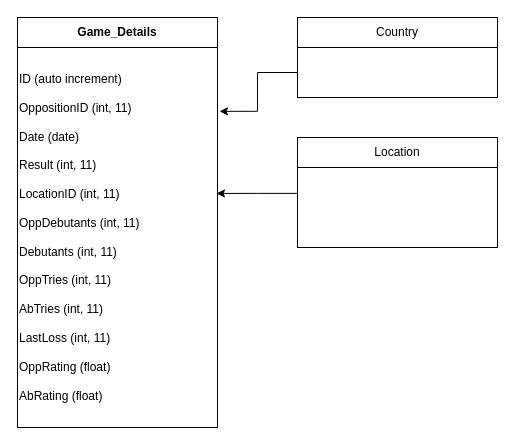
The diagram is 515 pixels wide and 445 high, and some of its shapes have lost their labels. The centre of each missing label's shape, as x and y in pixels:
"CountryID (auto increment) Country (varchar, 35)" belongs at pixel 397 72.
"LocationID (auto increment) Location (varchar, 35) Country (int, 11)" belongs at pixel 397 207.
